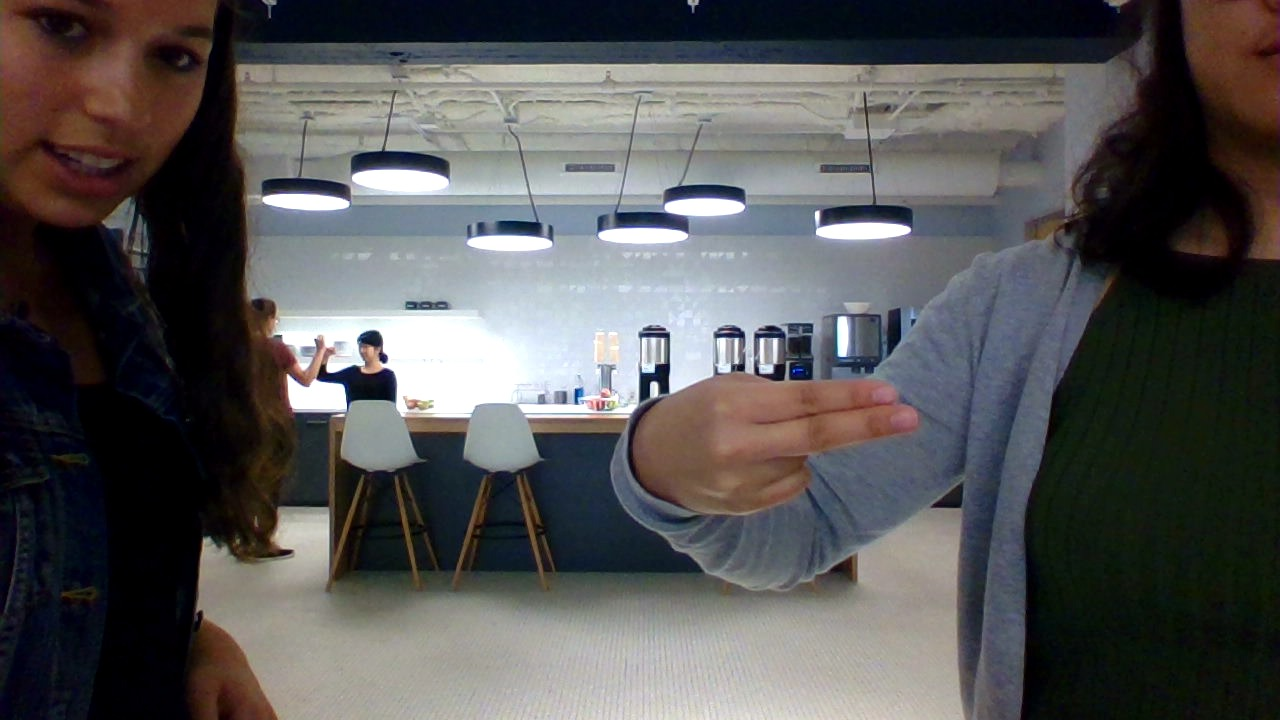h: (606, 359, 937, 530)
